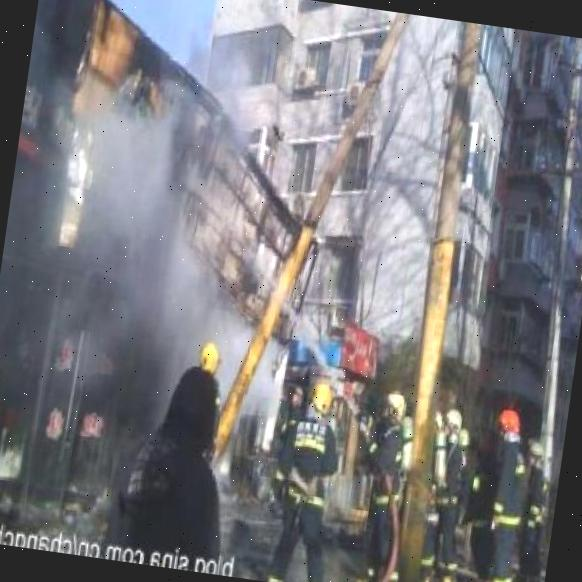smoke: (64, 93, 196, 299), (145, 290, 285, 392)
